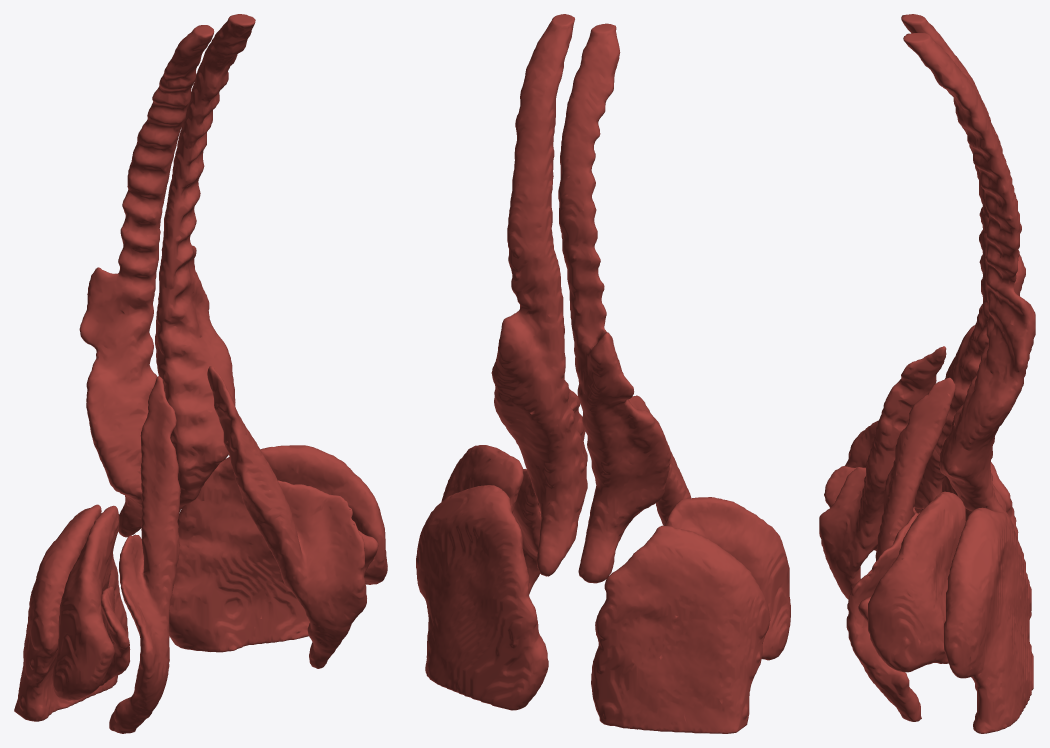
The model's file is tsd_s0196_older_adult_female.muscular.LOD1.glb.
3 renders of one model, left to right at view 1: azimuth 30°, elevation 25°; view 2: azimuth 150°, elevation 25°; view 3: azimuth 270°, elevation 25°, orthographic. The views are drawn at different scales.
Parts seen in each view (by area): view 1: TSD_S0196.OLDER_ADULT.FEMALE.MUSCULAR.ERECTOR_SPINAE_AUTOCHT (×2), TSD_S0196.OLDER_ADULT.FEMALE.MUSCULAR.GLUTEUS_MAXIMUS.L, TSD_S0196.OLDER_ADULT.FEMALE.MUSCULAR.ILIOPSOAS.L, TSD_S0196.OLDER_ADULT.FEMALE.MUSCULAR.ILIOPSOAS.R, TSD_S0196.OLDER_ADULT.FEMALE.MUSCULAR.GLUTEUS_MAXIMUS.R, TSD_S0196.OLDER_ADULT.FEMALE.MUSCULAR.GLUTEUS_MEDIUS.R, TSD_S0196.OLDER_ADULT.FEMALE.MUSCULAR.GLUTEUS_MEDIUS.L, TSD_S0196.OLDER_ADULT.FEMALE.MUSCULAR.GLUTEUS_MINIMUS.R; view 2: TSD_S0196.OLDER_ADULT.FEMALE.MUSCULAR.ERECTOR_SPINAE_AUTOCHT (×2), TSD_S0196.OLDER_ADULT.FEMALE.MUSCULAR.GLUTEUS_MAXIMUS.R, TSD_S0196.OLDER_ADULT.FEMALE.MUSCULAR.GLUTEUS_MAXIMUS.L, TSD_S0196.OLDER_ADULT.FEMALE.MUSCULAR.GLUTEUS_MEDIUS.R, TSD_S0196.OLDER_ADULT.FEMALE.MUSCULAR.GLUTEUS_MEDIUS.L, TSD_S0196.OLDER_ADULT.FEMALE.MUSCULAR.ILIOPSOAS.L, TSD_S0196.OLDER_ADULT.FEMALE.MUSCULAR.ILIOPSOAS.R; view 3: TSD_S0196.OLDER_ADULT.FEMALE.MUSCULAR.ERECTOR_SPINAE_AUTOCHT (×2), TSD_S0196.OLDER_ADULT.FEMALE.MUSCULAR.GLUTEUS_MAXIMUS.L, TSD_S0196.OLDER_ADULT.FEMALE.MUSCULAR.GLUTEUS_MEDIUS.L, TSD_S0196.OLDER_ADULT.FEMALE.MUSCULAR.ILIOPSOAS.L, TSD_S0196.OLDER_ADULT.FEMALE.MUSCULAR.ILIOPSOAS.R, TSD_S0196.OLDER_ADULT.FEMALE.MUSCULAR.GLUTEUS_MEDIUS.R, TSD_S0196.OLDER_ADULT.FEMALE.MUSCULAR.GLUTEUS_MAXIMUS.R, TSD_S0196.OLDER_ADULT.FEMALE.MUSCULAR.GLUTEUS_MINIMUS.R.
Boxes of the visible parts, bbox=[...] form: TSD_S0196.OLDER_ADULT.FEMALE.MUSCULAR.ERECTOR_SPINAE_AUTOCHT (×2): bbox=[79, 14, 255, 537]; TSD_S0196.OLDER_ADULT.FEMALE.MUSCULAR.GLUTEUS_MAXIMUS.L: bbox=[169, 457, 309, 652]; TSD_S0196.OLDER_ADULT.FEMALE.MUSCULAR.ILIOPSOAS.L: bbox=[207, 366, 366, 668]; TSD_S0196.OLDER_ADULT.FEMALE.MUSCULAR.ILIOPSOAS.R: bbox=[109, 376, 180, 733]; TSD_S0196.OLDER_ADULT.FEMALE.MUSCULAR.GLUTEUS_MAXIMUS.R: bbox=[14, 504, 128, 721]; TSD_S0196.OLDER_ADULT.FEMALE.MUSCULAR.GLUTEUS_MEDIUS.R: bbox=[52, 505, 119, 700]; TSD_S0196.OLDER_ADULT.FEMALE.MUSCULAR.GLUTEUS_MEDIUS.L: bbox=[260, 445, 387, 584]; TSD_S0196.OLDER_ADULT.FEMALE.MUSCULAR.GLUTEUS_MINIMUS.R: bbox=[100, 586, 130, 685]; TSD_S0196.OLDER_ADULT.FEMALE.MUSCULAR.ERECTOR_SPINAE_AUTOCHT (×2): bbox=[491, 14, 671, 583]; TSD_S0196.OLDER_ADULT.FEMALE.MUSCULAR.GLUTEUS_MAXIMUS.R: bbox=[591, 525, 770, 733]; TSD_S0196.OLDER_ADULT.FEMALE.MUSCULAR.GLUTEUS_MAXIMUS.L: bbox=[416, 485, 548, 710]; TSD_S0196.OLDER_ADULT.FEMALE.MUSCULAR.GLUTEUS_MEDIUS.R: bbox=[664, 497, 790, 660]; TSD_S0196.OLDER_ADULT.FEMALE.MUSCULAR.GLUTEUS_MEDIUS.L: bbox=[441, 445, 523, 512]; TSD_S0196.OLDER_ADULT.FEMALE.MUSCULAR.ILIOPSOAS.L: bbox=[512, 383, 587, 594]; TSD_S0196.OLDER_ADULT.FEMALE.MUSCULAR.ILIOPSOAS.R: bbox=[629, 395, 691, 525]; TSD_S0196.OLDER_ADULT.FEMALE.MUSCULAR.ERECTOR_SPINAE_AUTOCHT (×2): bbox=[901, 14, 1035, 528]; TSD_S0196.OLDER_ADULT.FEMALE.MUSCULAR.GLUTEUS_MAXIMUS.L: bbox=[944, 507, 1033, 733]; TSD_S0196.OLDER_ADULT.FEMALE.MUSCULAR.GLUTEUS_MEDIUS.L: bbox=[868, 491, 965, 672]; TSD_S0196.OLDER_ADULT.FEMALE.MUSCULAR.ILIOPSOAS.L: bbox=[846, 377, 955, 721]; TSD_S0196.OLDER_ADULT.FEMALE.MUSCULAR.ILIOPSOAS.R: bbox=[819, 346, 946, 599]; TSD_S0196.OLDER_ADULT.FEMALE.MUSCULAR.GLUTEUS_MEDIUS.R: bbox=[845, 421, 944, 550]; TSD_S0196.OLDER_ADULT.FEMALE.MUSCULAR.GLUTEUS_MAXIMUS.R: bbox=[914, 462, 1018, 538]; TSD_S0196.OLDER_ADULT.FEMALE.MUSCULAR.GLUTEUS_MINIMUS.R: bbox=[824, 466, 916, 550].
Size of the model in its own units: 0.2944 by 0.5508 by 0.1668.
